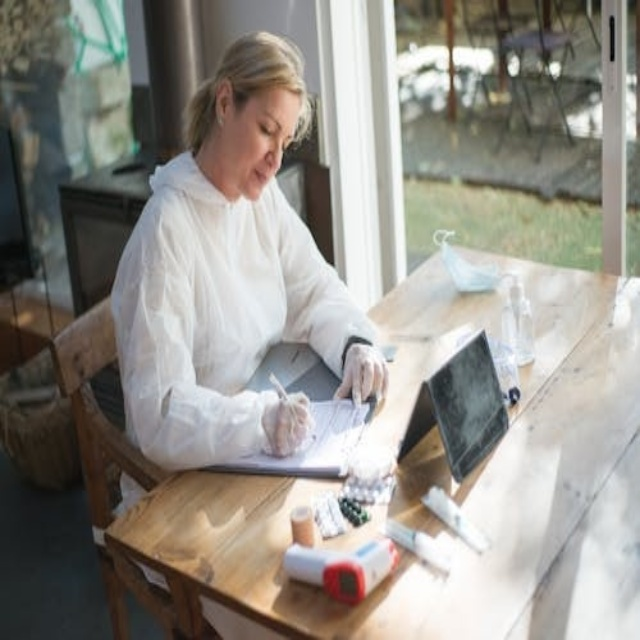Guantes: (334, 342, 390, 407), (260, 392, 314, 457)
Sin_gafas: (247, 102, 298, 157)
Sin_mascara: (241, 161, 273, 197)
